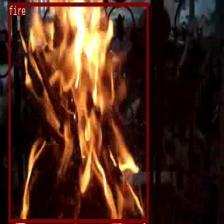fire: (8, 2, 148, 222)
